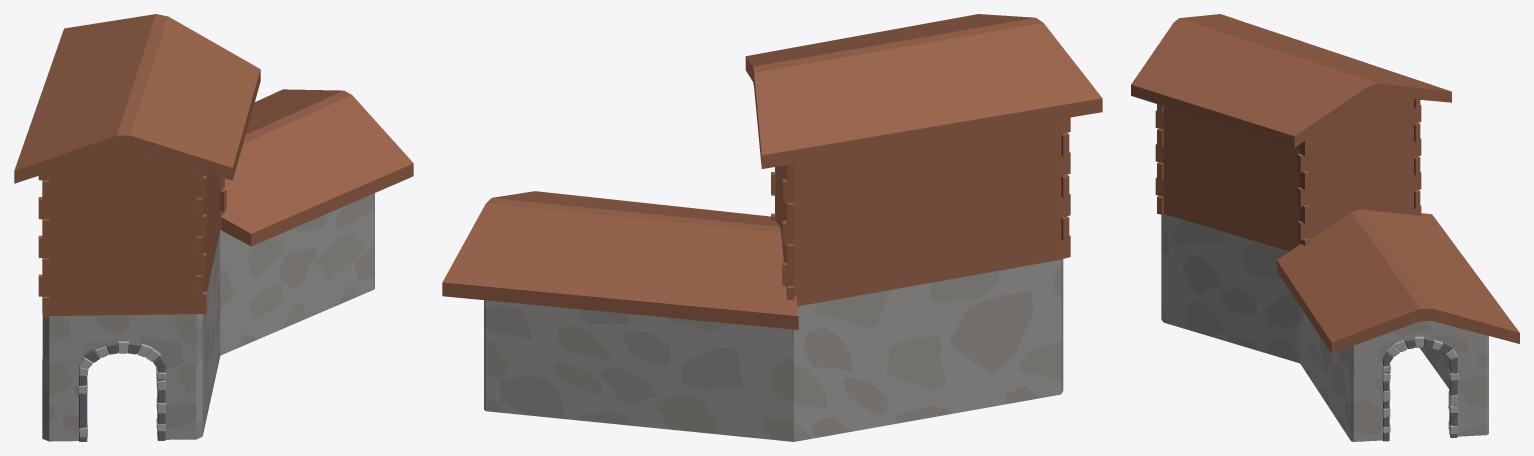
Rendered from LightStoneBuildingLong2StoreyHouse1.fbx.
The picture shows the model from 3 angles, left to right: view 1: azimuth 30°, elevation 25°; view 2: azimuth 150°, elevation 25°; view 3: azimuth 270°, elevation 25°; orthographic projection. The views are drawn at different scales.
Parts seen in each view (by area): view 1: SecondFloor1, FirstFloor1; view 2: SecondFloor1, FirstFloor1; view 3: SecondFloor1, FirstFloor1.
Boxes of the visible parts, x1,y1,x2,y2 form: SecondFloor1: (14,14,413,317); FirstFloor1: (42,193,374,441); SecondFloor1: (442,14,1102,329); FirstFloor1: (484,259,1063,441); SecondFloor1: (1131,14,1519,353); FirstFloor1: (1161,214,1488,441).
Size of the model in its own units: 1405 by 907 by 1176.
